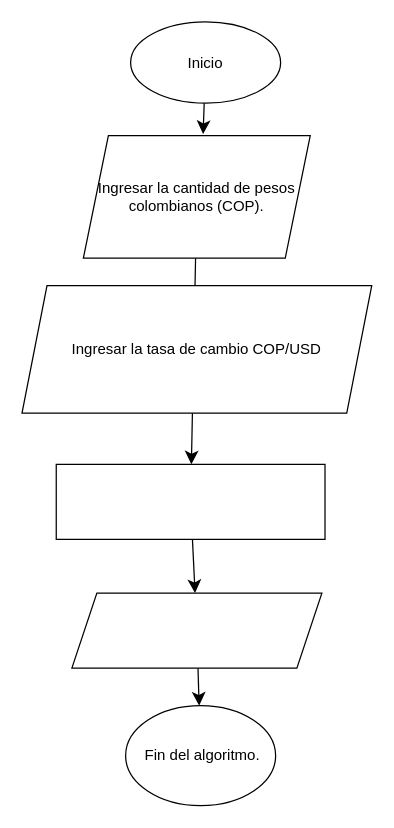
The diagram is 394 pixels wide and 828 high, and some of its shapes have lost their labels. The shapes that lost their labels are listed below. From the top down, each one's box as (x1, y1, x2, y2) in pixels, then its label:
(55, 463, 325, 539): USD = COP ÷ Tasa de cambio
(71, 592, 322, 668): Mostrar el valor equivalente en dólares (USD).
